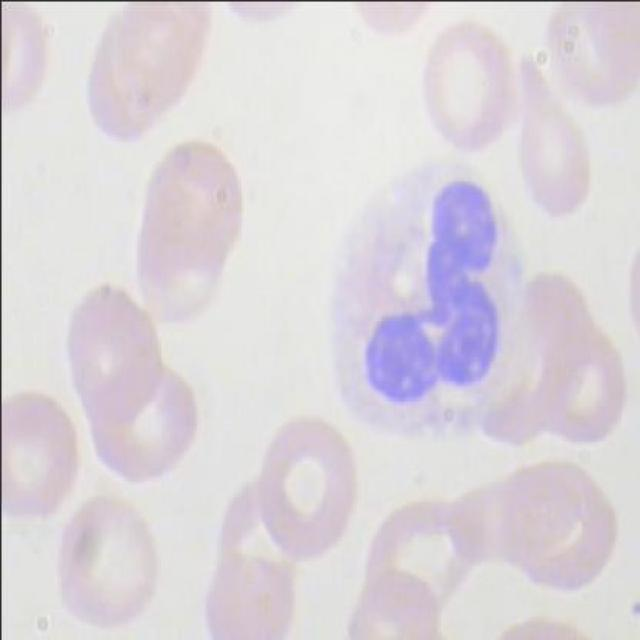RBC: (126, 132, 251, 282), (55, 283, 179, 432), (499, 458, 623, 607), (249, 412, 373, 560), (46, 496, 174, 638), (103, 1, 229, 130), (410, 24, 528, 151), (512, 41, 593, 222), (1, 382, 96, 527), (192, 543, 317, 639)
WBC: (309, 152, 537, 440)
